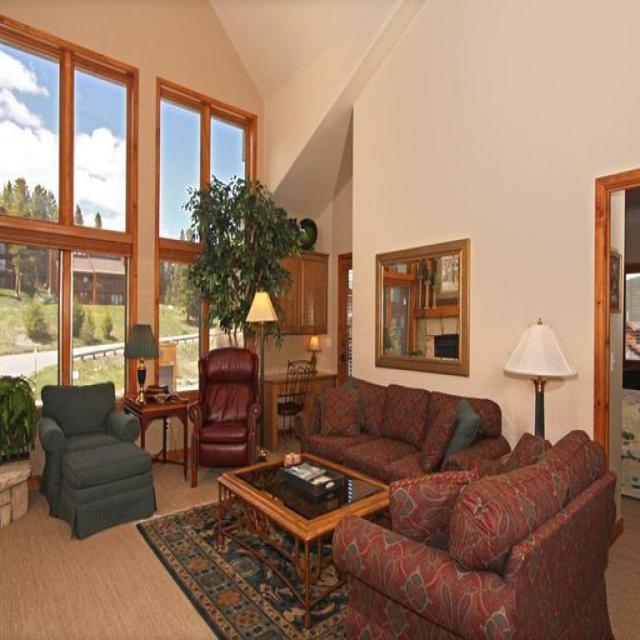chair: (276, 356, 314, 439)
cupboard: (270, 249, 329, 335)
lamps: (502, 316, 576, 455), (123, 323, 159, 405), (306, 335, 322, 374)
plants: (181, 171, 304, 351), (0, 371, 38, 464)
pots: (298, 218, 318, 250)
rugs: (135, 492, 351, 638)
sofa: (332, 428, 622, 638), (292, 374, 510, 488)
table: (123, 388, 189, 482)
table-lamp: (244, 290, 278, 460)
window: (0, 14, 138, 414), (154, 75, 257, 395)
